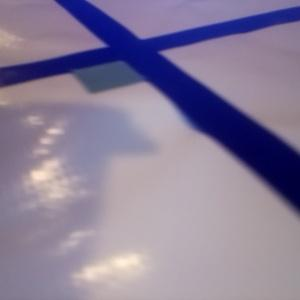bottom_left: (72, 55, 163, 93)
